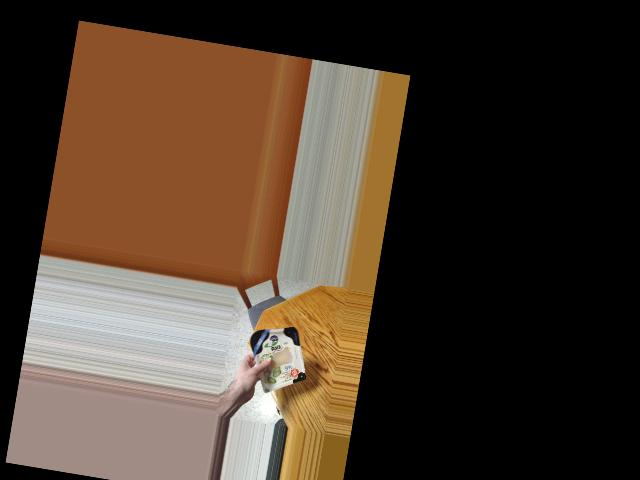cheese: (246, 318, 311, 387)
